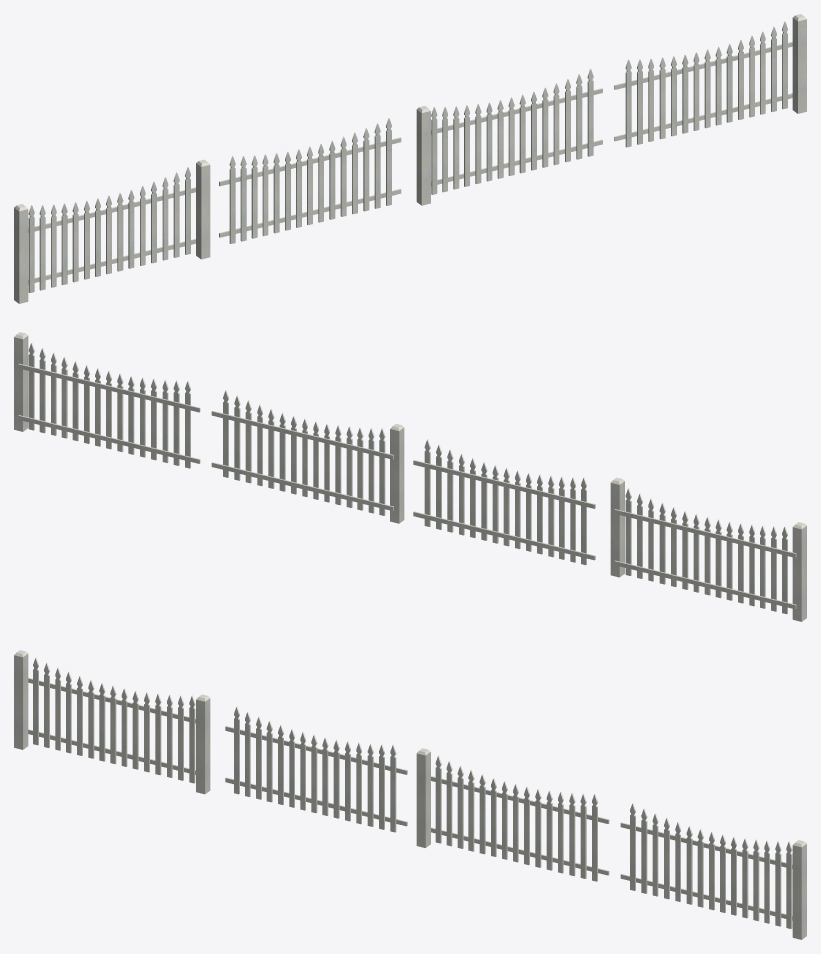
The model's file is picket fence sections.FBX.
3 renders of one model, top to bottom at view 1: azimuth 30°, elevation 25°; view 2: azimuth 150°, elevation 25°; view 3: azimuth 330°, elevation 25°, orthographic.
Parts seen in each view (by area): view 1: closed_section, halfopen_section, halfopen_section01, open_section06; view 2: closed_section, halfopen_section, halfopen_section01, open_section06; view 3: closed_section, halfopen_section, halfopen_section01, open_section06.
Boxes of the visible parts, x1=… form: closed_section: x1=14, y1=159, x2=210, y2=303; halfopen_section: x1=416, y1=69, x2=602, y2=205; halfopen_section01: x1=614, y1=14, x2=806, y2=147; open_section06: x1=219, y1=118, x2=401, y2=243; closed_section: x1=610, y1=477, x2=806, y2=621; halfopen_section: x1=211, y1=390, x2=404, y2=523; halfopen_section01: x1=14, y1=332, x2=200, y2=468; open_section06: x1=413, y1=439, x2=595, y2=565; closed_section: x1=14, y1=650, x2=210, y2=794; halfopen_section: x1=416, y1=748, x2=609, y2=881; halfopen_section01: x1=620, y1=803, x2=806, y2=939; open_section06: x1=225, y1=706, x2=407, y2=832.
Bounding box in the file's own units: 138 × 1.88 × 15.87.
Materials: 1 (1 with a texture image).
